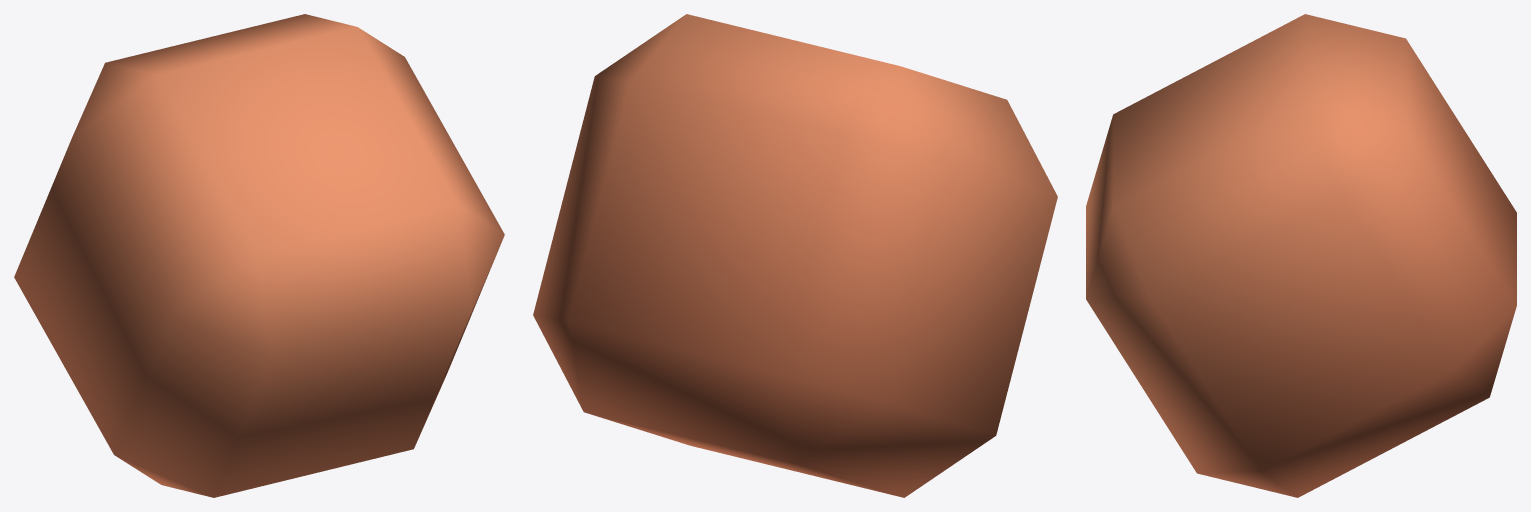
The model's file is brick-particle.glb.
3 views of the same model, side by side, from view 1: azimuth 30°, elevation 25°; view 2: azimuth 150°, elevation 25°; view 3: azimuth 270°, elevation 25° (orthographic). The views are drawn at different scales.
Visible parts, largest first — view 1: brick-particle; view 2: brick-particle; view 3: brick-particle.
Part boxes in pixels (x1,y1,x2,y2): brick-particle: (14,14,504,497); brick-particle: (533,14,1057,497); brick-particle: (1086,14,1516,497).
Size of the model in its own units: 0.5 by 0.583 by 0.583.
Materials: 1 (1 with a texture image).
